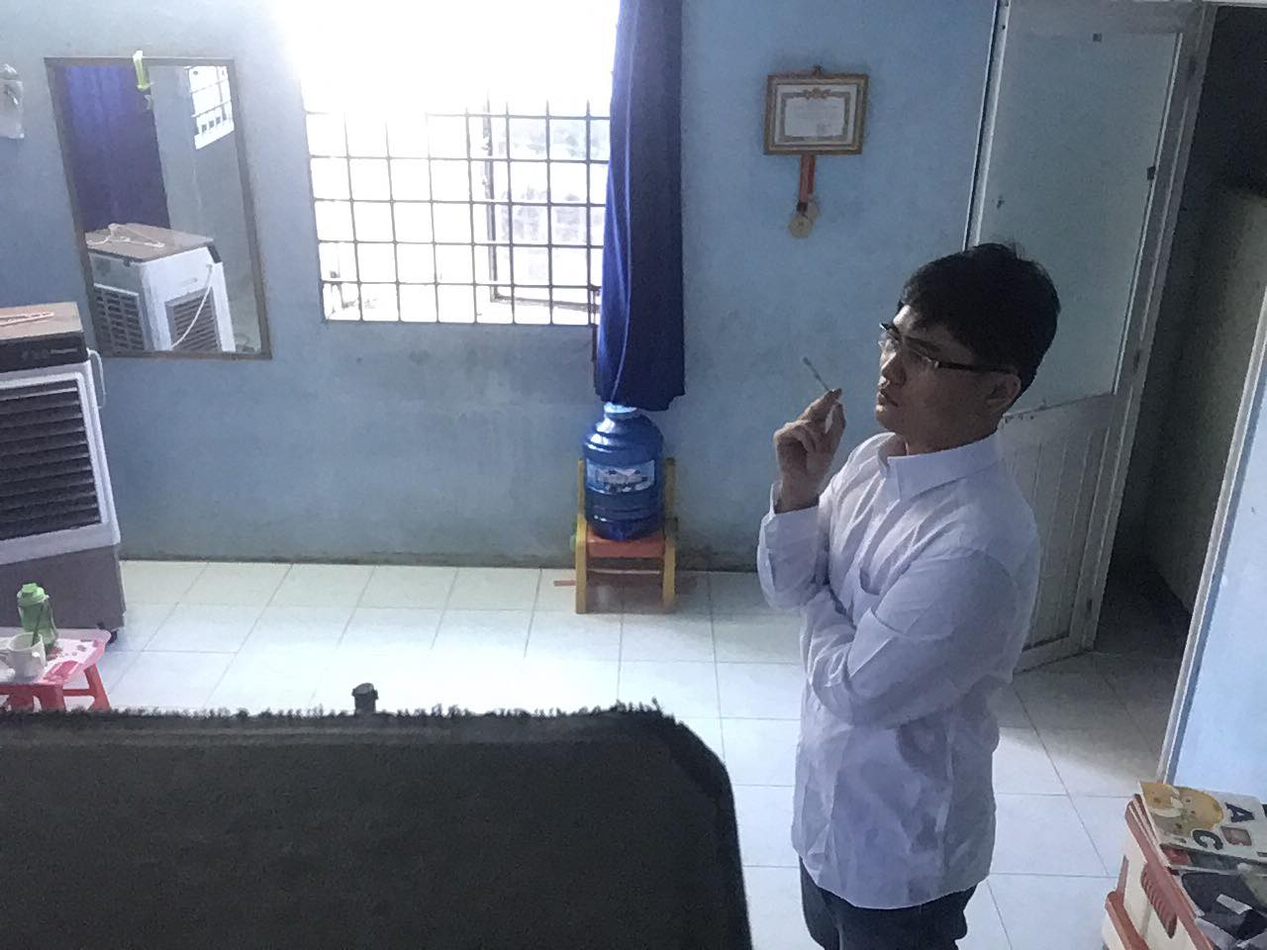cigarette: (803, 350, 856, 420)
person: (743, 217, 1088, 950)
